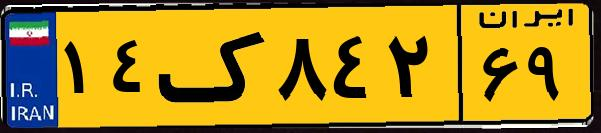1: (57, 26, 110, 100)
2: (385, 28, 445, 110)
4: (330, 28, 385, 110), (110, 28, 158, 98)
6: (475, 38, 525, 113)
8: (270, 28, 330, 110)
9: (525, 38, 570, 115)
ک: (158, 12, 270, 120)
